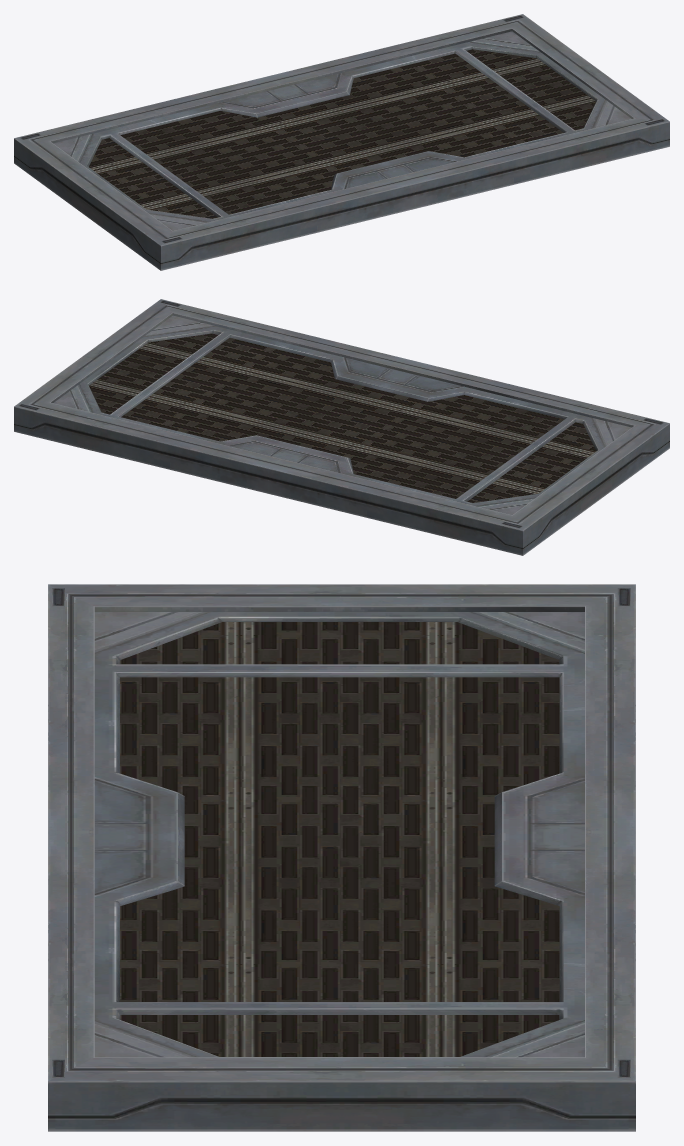
Rendered from all_item_imp_scaffold_platform_b.glb.
The picture shows the model from 3 angles, top to bottom: view 1: azimuth 30°, elevation 25°; view 2: azimuth 150°, elevation 25°; view 3: azimuth 270°, elevation 25°; orthographic projection. The views are drawn at different scales.
Parts seen in each view (by area): view 1: all_item_imp_scaffold_platform_b; view 2: all_item_imp_scaffold_platform_b; view 3: all_item_imp_scaffold_platform_b.
Part boxes in pixels (x1=…): all_item_imp_scaffold_platform_b: x1=14, y1=14, x2=669, y2=270; all_item_imp_scaffold_platform_b: x1=14, y1=299, x2=669, y2=555; all_item_imp_scaffold_platform_b: x1=48, y1=584, x2=635, y2=1131.
Size of the model in its own units: 1.6 by 0.0768 by 0.8.
3 materials, 3 textured.
